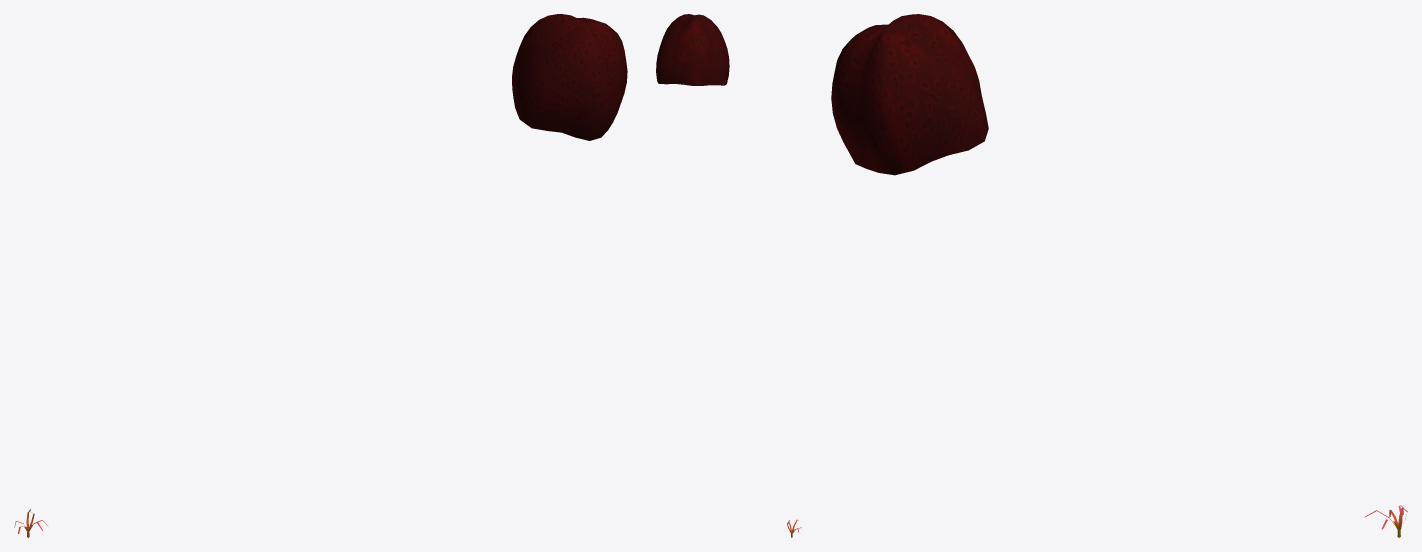
File: gsp_neon.glb
3 views of the same model, side by side, from view 1: azimuth 30°, elevation 25°; view 2: azimuth 150°, elevation 25°; view 3: azimuth 270°, elevation 25° (orthographic). The views are drawn at different scales.
Parts seen in each view (by area): view 1: Mat; view 2: Mat; view 3: Mat.
Part boxes in pixels (x1,y1,x2,y2): Mat: (512,14,627,140); Mat: (656,14,729,85); Mat: (831,14,988,175).
Bounding box in the file's own units: 24.17 × 32.62 × 23.21.
Materials: 2 (2 with a texture image).
